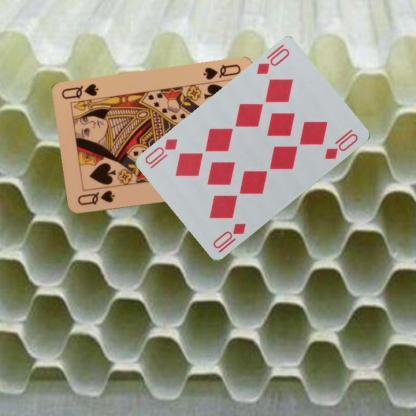10d: (210, 221, 247, 255), (254, 46, 291, 76)
Qs: (200, 62, 242, 82), (75, 188, 116, 207)
